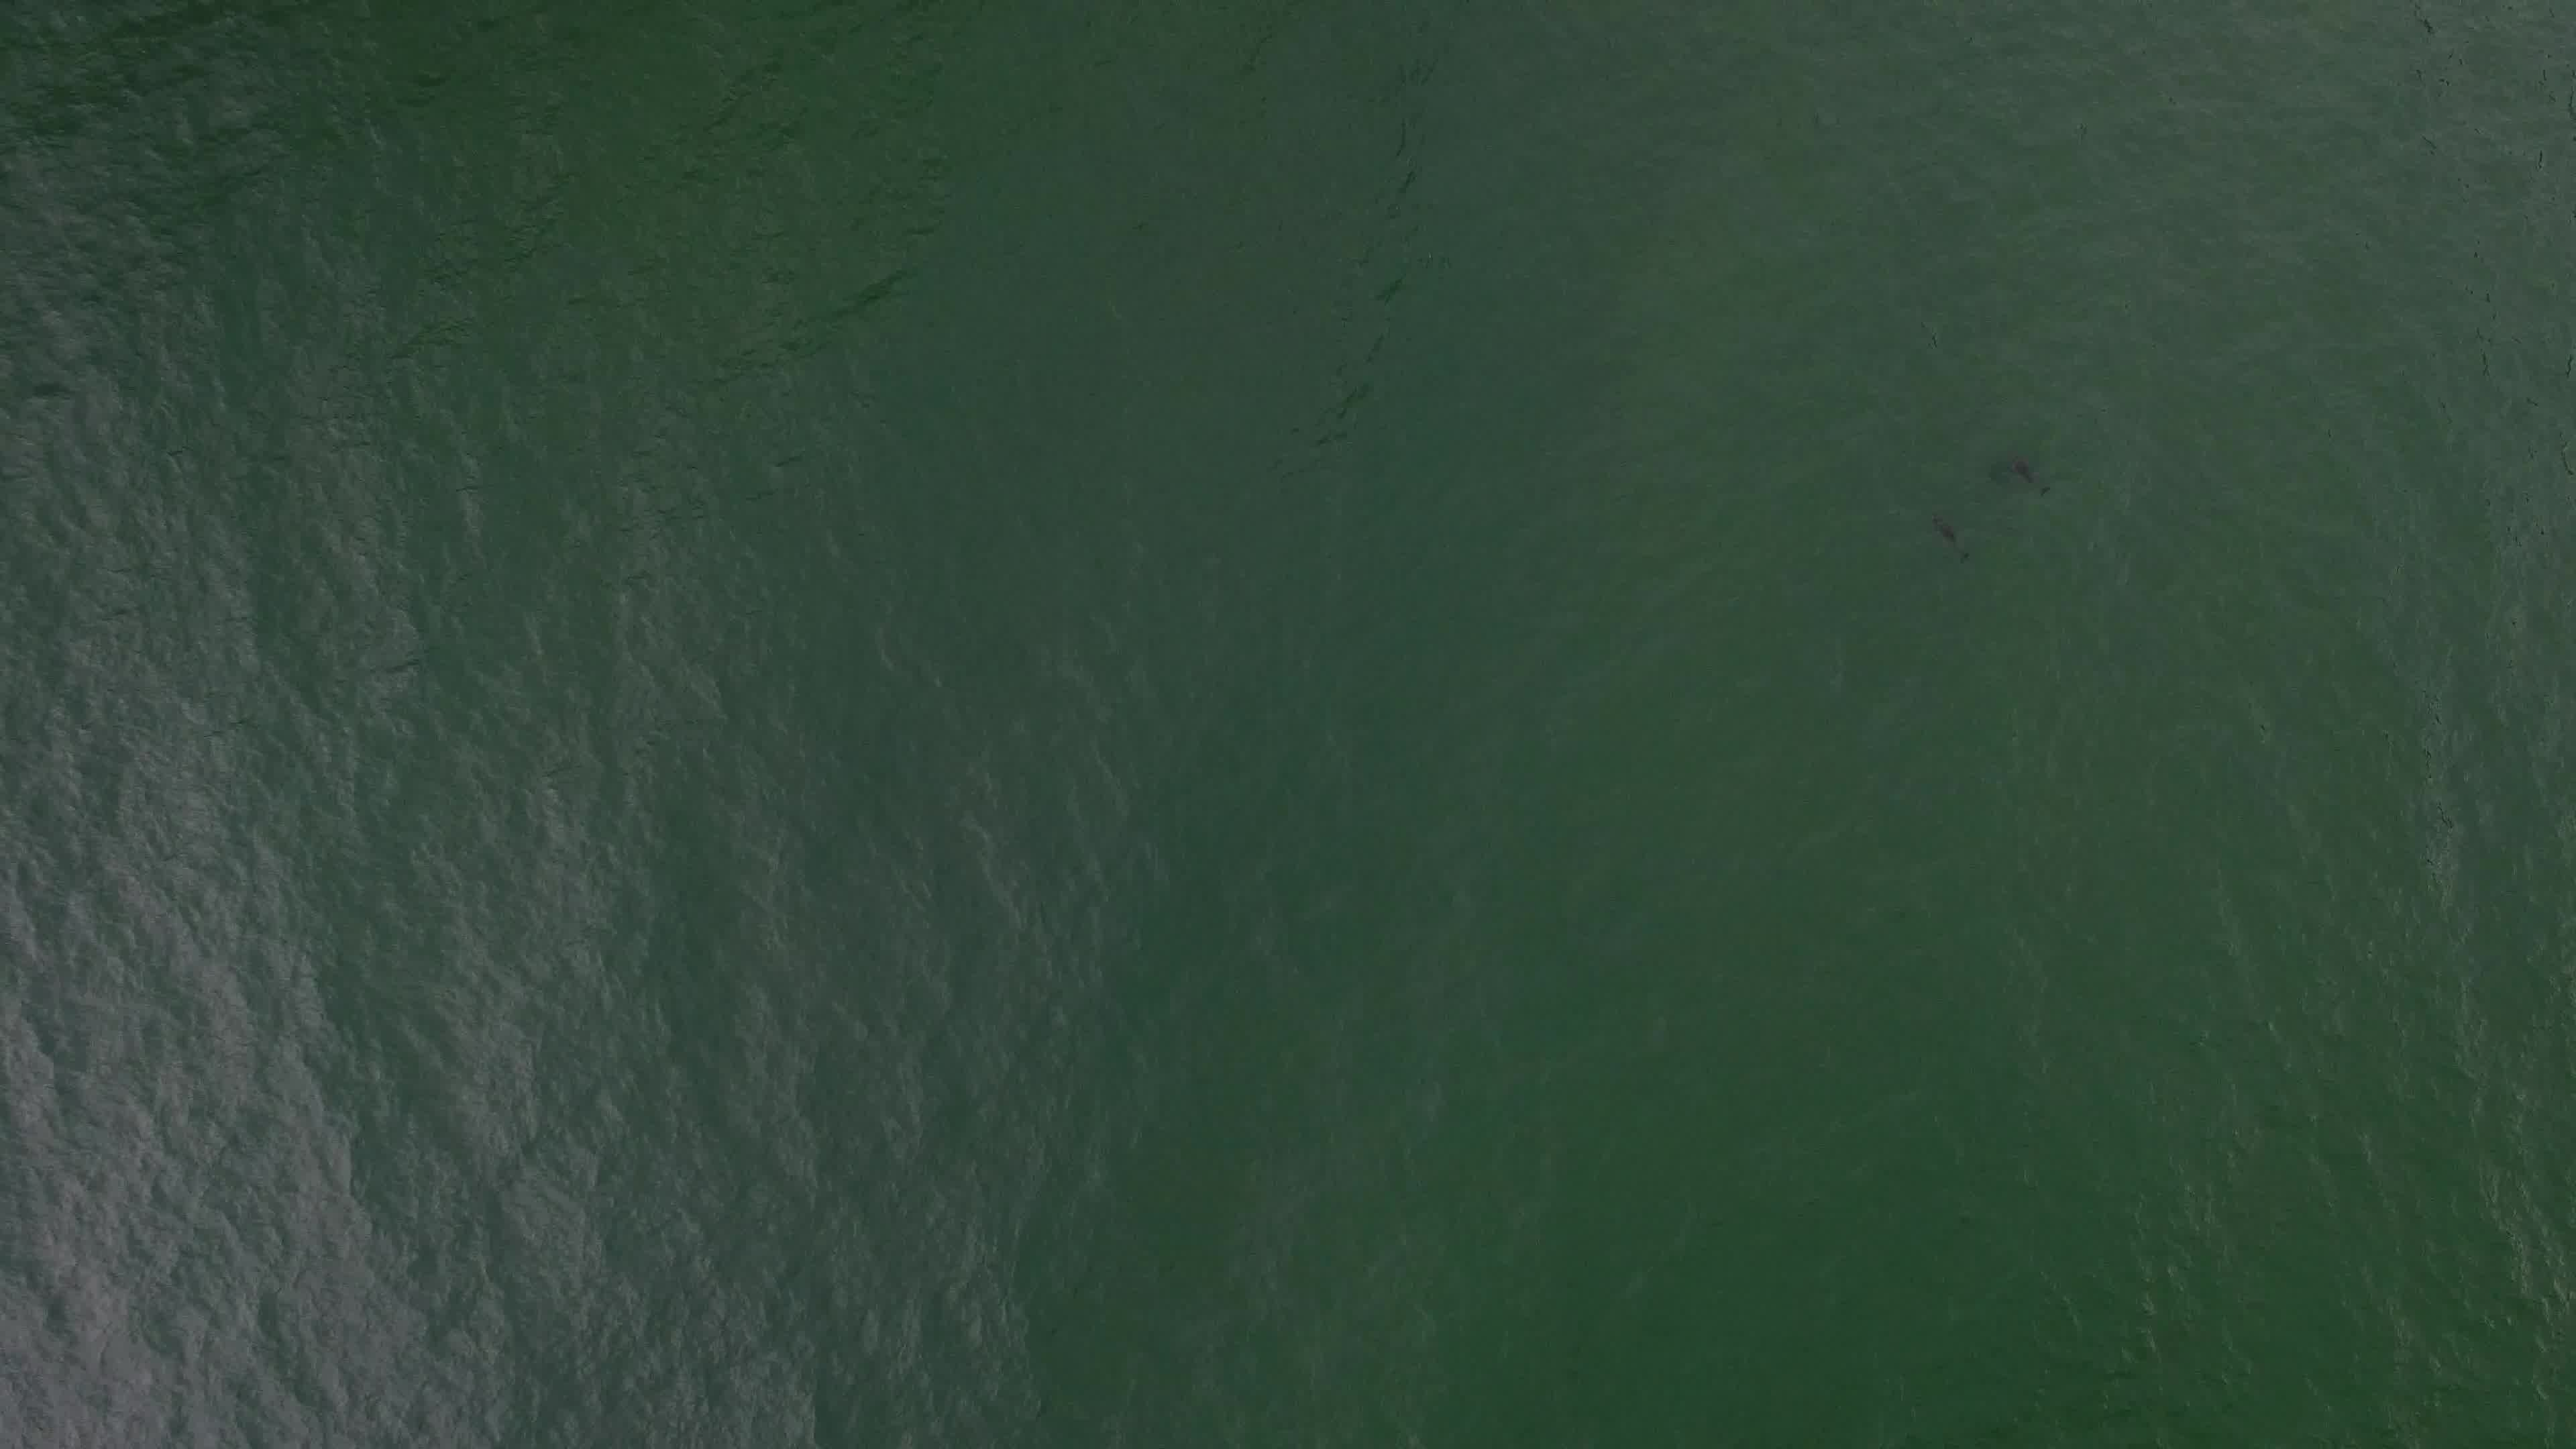dolphin: (1907, 494, 1985, 580), (1980, 435, 2056, 508)
